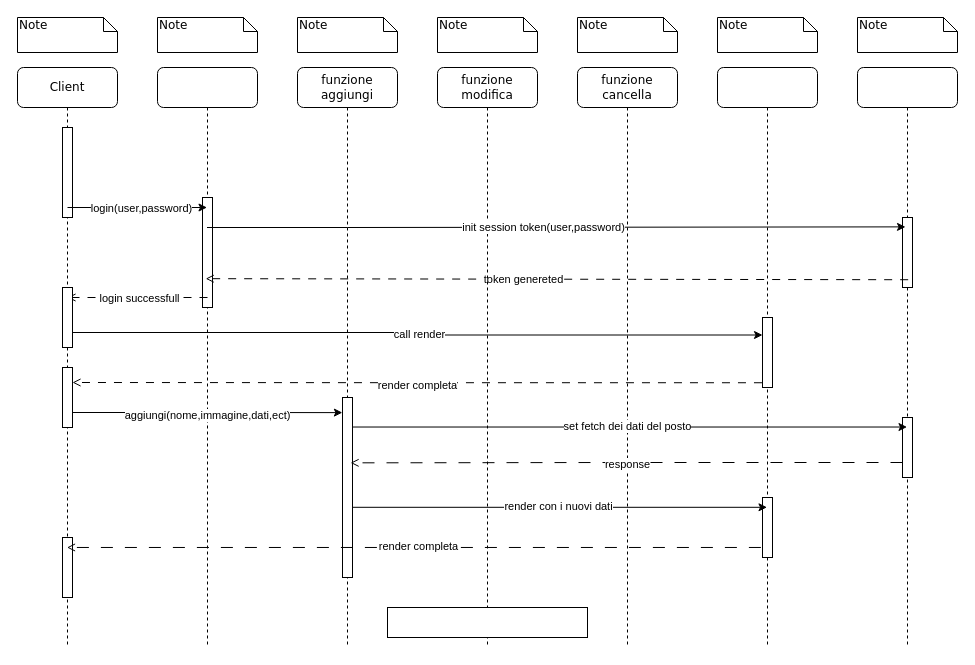
The diagram is 975 pixels wide and 665 high, and some of its shapes have lost their labels. The box of each missing label's shape, as (x1, y1, x2, y2) in pixels:
database: (856, 66, 958, 648)
funzione login: (156, 66, 258, 648)
modifica e cancella sono uguali ad aggiungi: (386, 606, 588, 638)
render: (716, 66, 818, 648)
